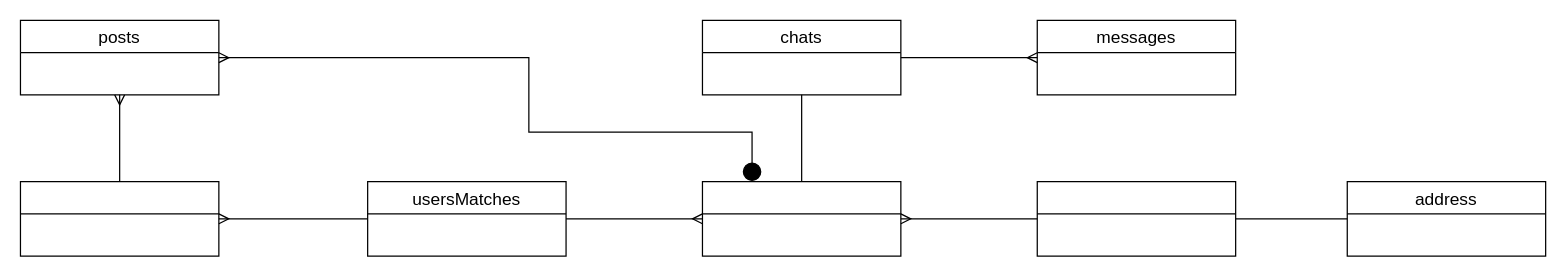
Some shapes in this 1566 by 277 pixel diagram are drawn without their labels. Each missing label, with the centre of its shape:
"courts" belongs at [1136,218].
"matches" belongs at [801,218].
"users" belongs at [119,218].
